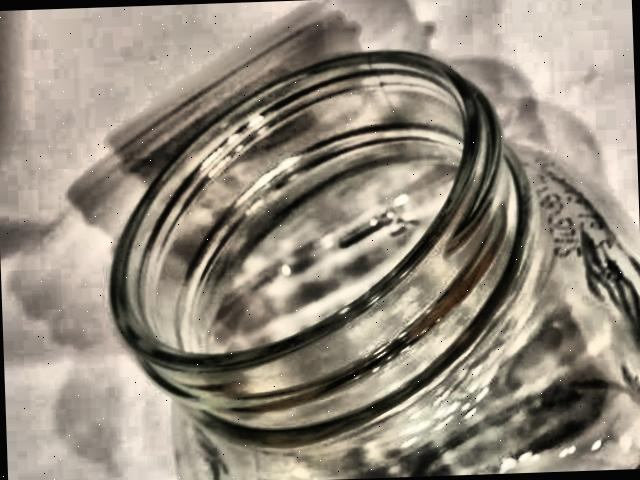Almennt: (76, 35, 640, 480)
